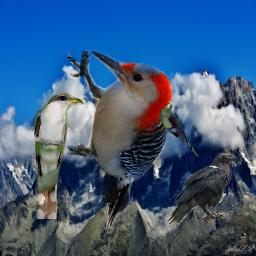Crow: (166, 153, 236, 225)
Cuckoo: (33, 92, 84, 219), (159, 103, 201, 157)
Woodpecker: (67, 50, 172, 229)
